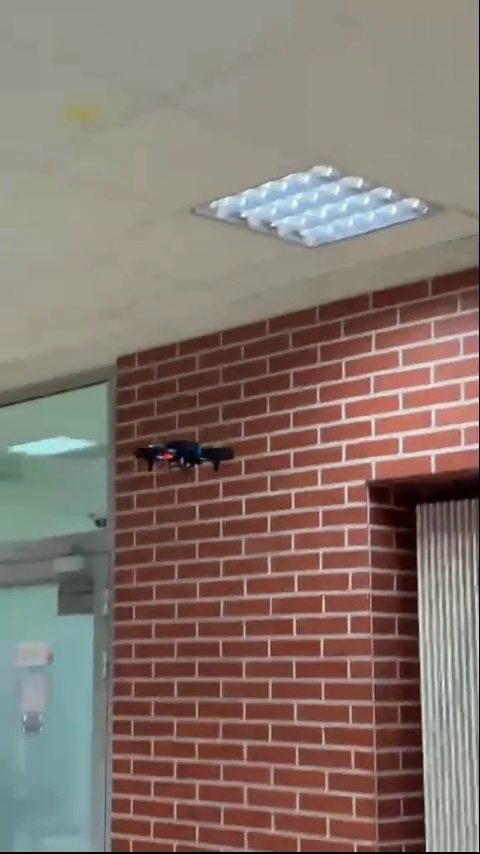drone: (131, 438, 235, 481)
